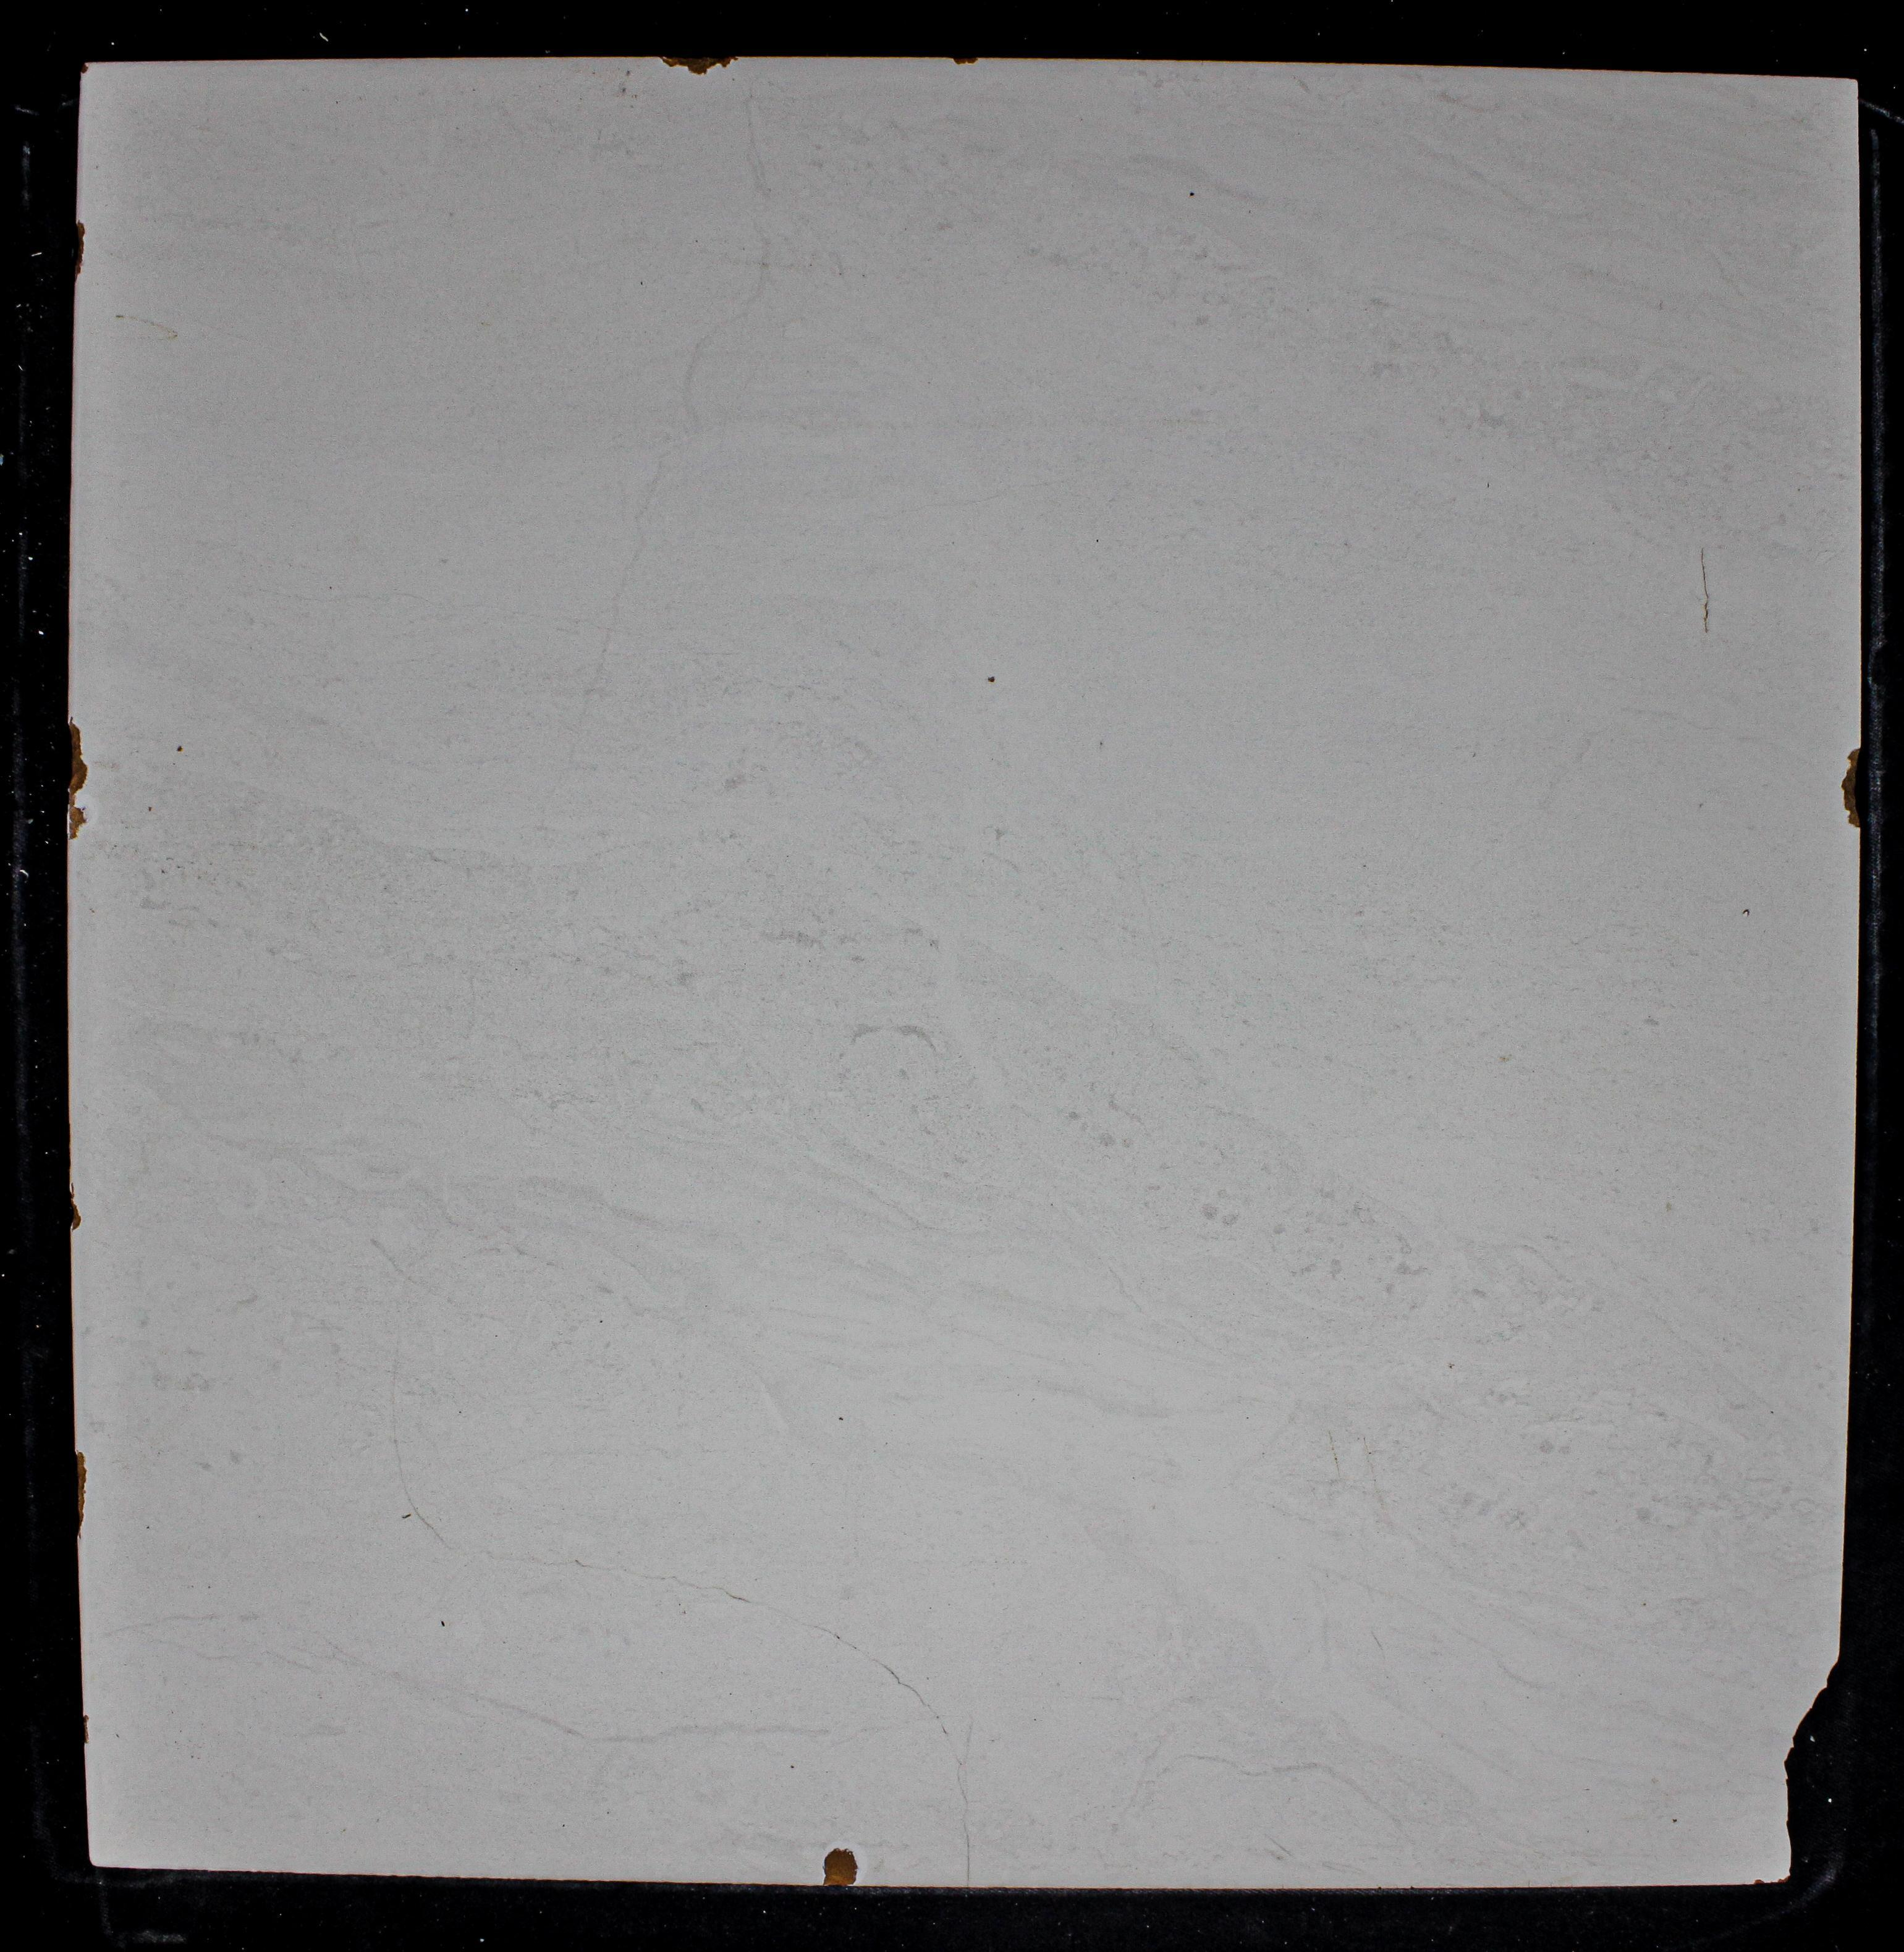edge-chipping: (1784, 1656, 1843, 1888), (65, 715, 89, 795), (657, 52, 738, 75), (1841, 748, 1864, 828), (821, 1847, 860, 1891), (73, 1450, 89, 1537), (65, 803, 89, 840), (66, 1183, 82, 1232), (73, 220, 85, 281), (952, 56, 982, 66)
hole: (985, 671, 999, 687), (1189, 192, 1194, 197)
line: (877, 1661, 947, 1732), (671, 1574, 751, 1603), (797, 1621, 863, 1654), (391, 1419, 413, 1509), (955, 1774, 973, 1886), (1697, 546, 1714, 634), (418, 1513, 448, 1548)
